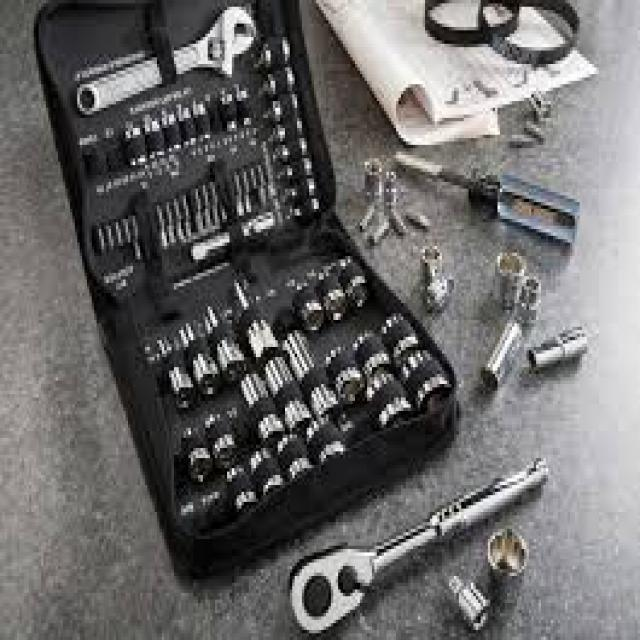screwdriver: (390, 144, 588, 242)
wrench: (284, 456, 554, 636), (75, 4, 258, 122)
